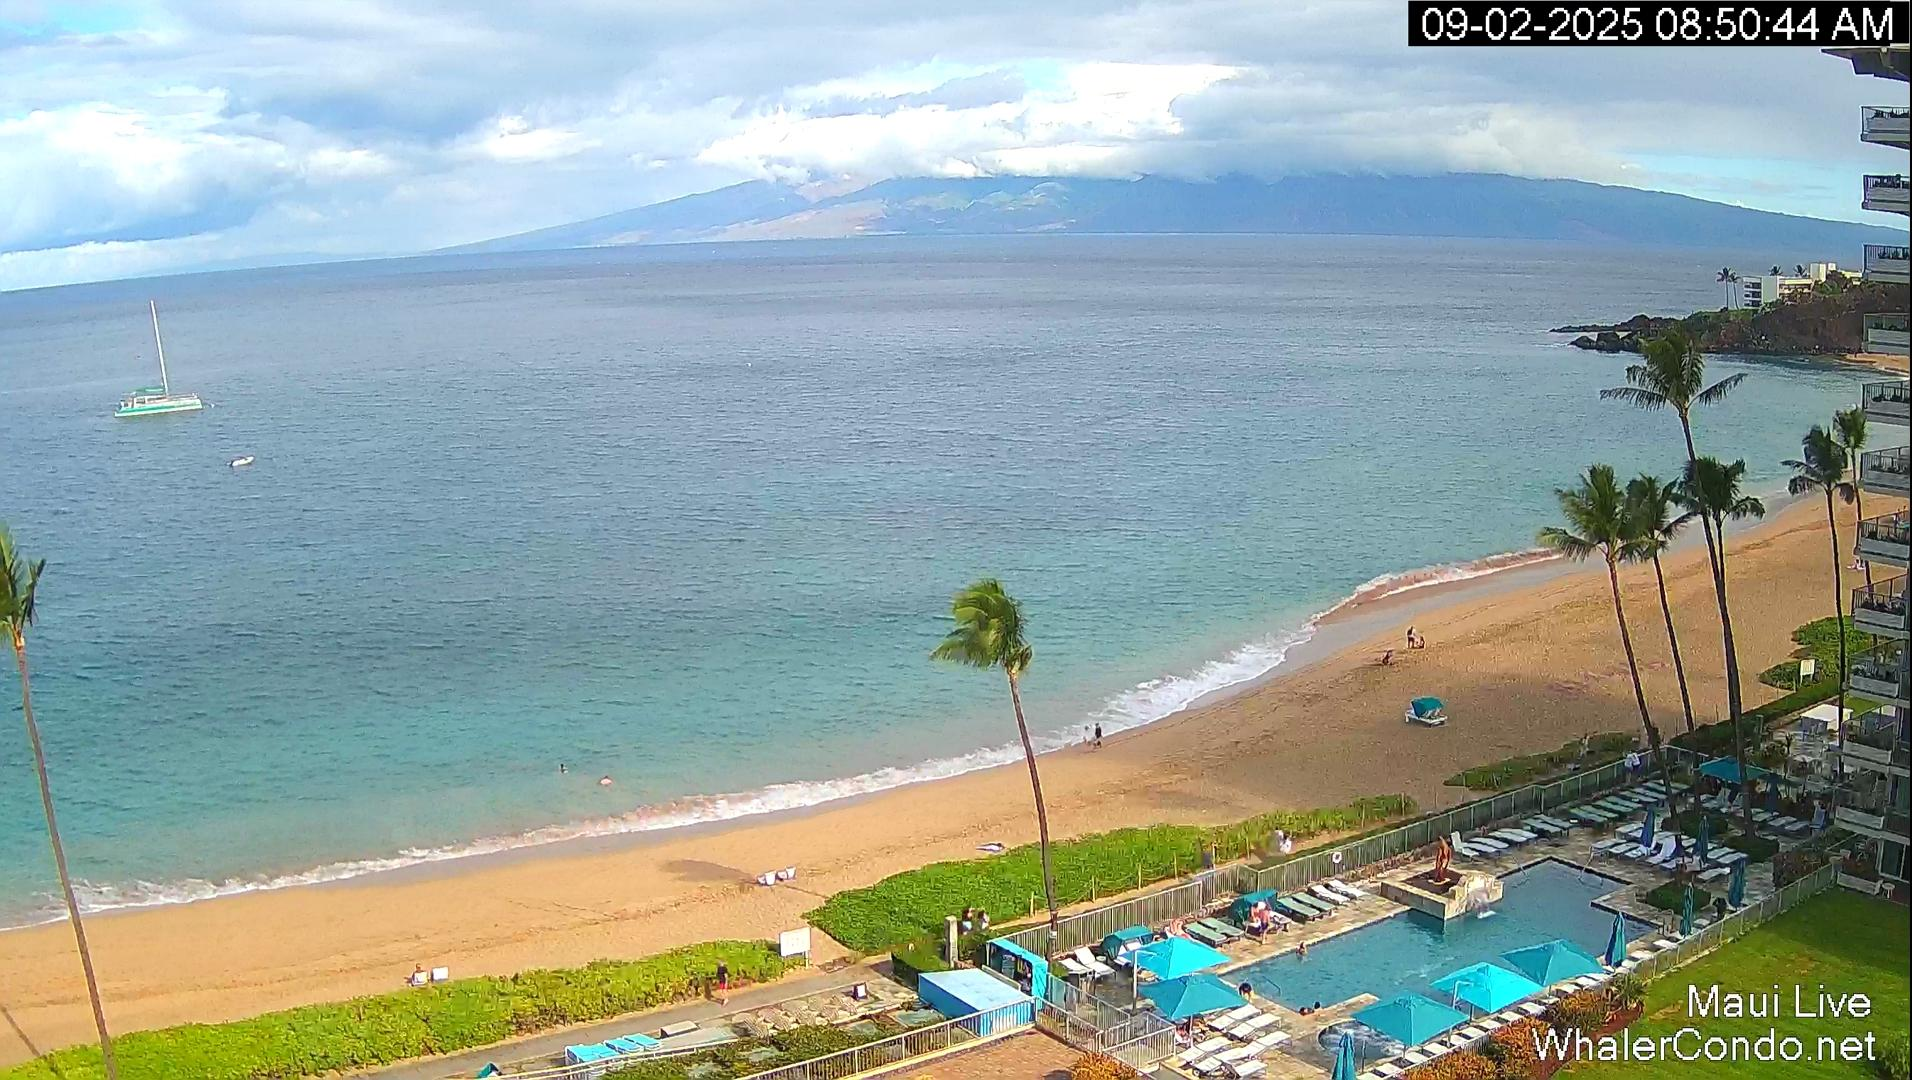boat: (114, 300, 204, 418), (229, 453, 254, 472)
person: (943, 579, 1025, 640), (1177, 1017, 1205, 1039), (716, 962, 730, 1002), (1260, 903, 1271, 941), (977, 906, 991, 935), (962, 902, 972, 942), (410, 964, 428, 986), (1238, 982, 1253, 1003), (1281, 832, 1293, 857), (1406, 625, 1418, 648), (1093, 722, 1103, 748), (1083, 723, 1092, 748), (1382, 650, 1393, 668), (1296, 941, 1307, 956), (1851, 558, 1864, 570), (600, 774, 614, 785), (1419, 632, 1428, 649), (558, 763, 569, 774), (1301, 1004, 1309, 1016), (1314, 1000, 1320, 1010)
